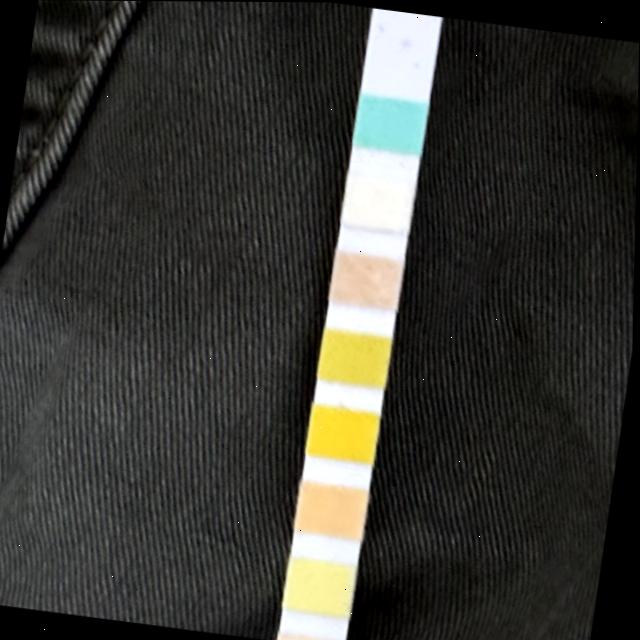Bilirubin: (343, 179, 413, 230)
Blood: (309, 404, 378, 462)
Glucose: (354, 95, 424, 148)
Ketone: (333, 252, 399, 305)
Protein: (286, 559, 354, 613)
SpGravity: (319, 329, 389, 384)
Urobilinogen: (282, 635, 343, 640)
pH: (297, 484, 365, 535)
